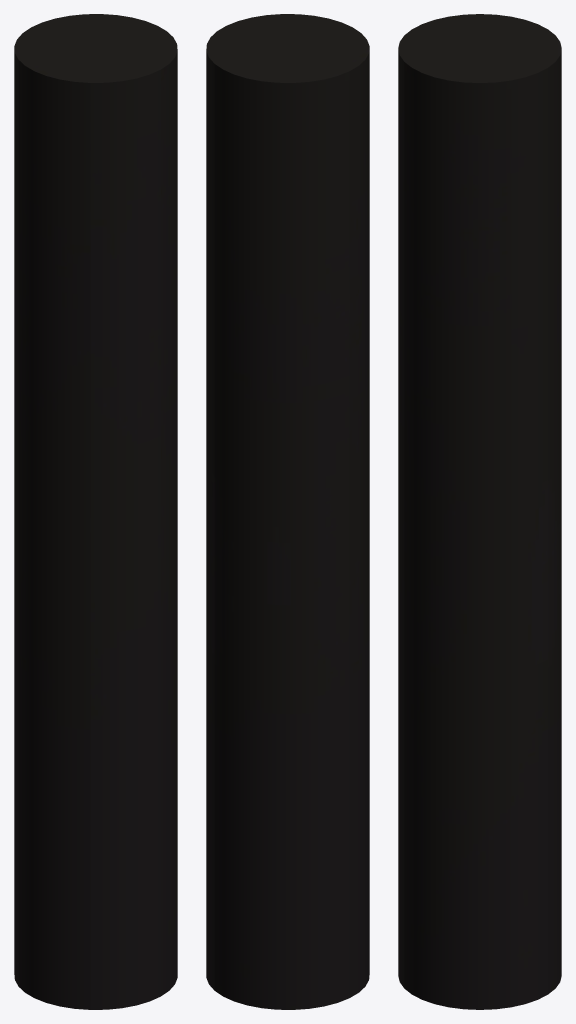
Rendered from frame__axle_stub_1.glb.
3 renders of one model, left to right at view 1: azimuth 30°, elevation 25°; view 2: azimuth 150°, elevation 25°; view 3: azimuth 270°, elevation 25°, orthographic.
Visible parts, largest first — view 1: world; view 2: world; view 3: world.
Part boxes in pixels (bbox=[...]): world: bbox=[14, 14, 177, 1009]; world: bbox=[206, 14, 369, 1009]; world: bbox=[398, 14, 561, 1009].
Bounding box in the file's own units: 0.02 × 0.125 × 0.02.
1 material, 1 textured.
